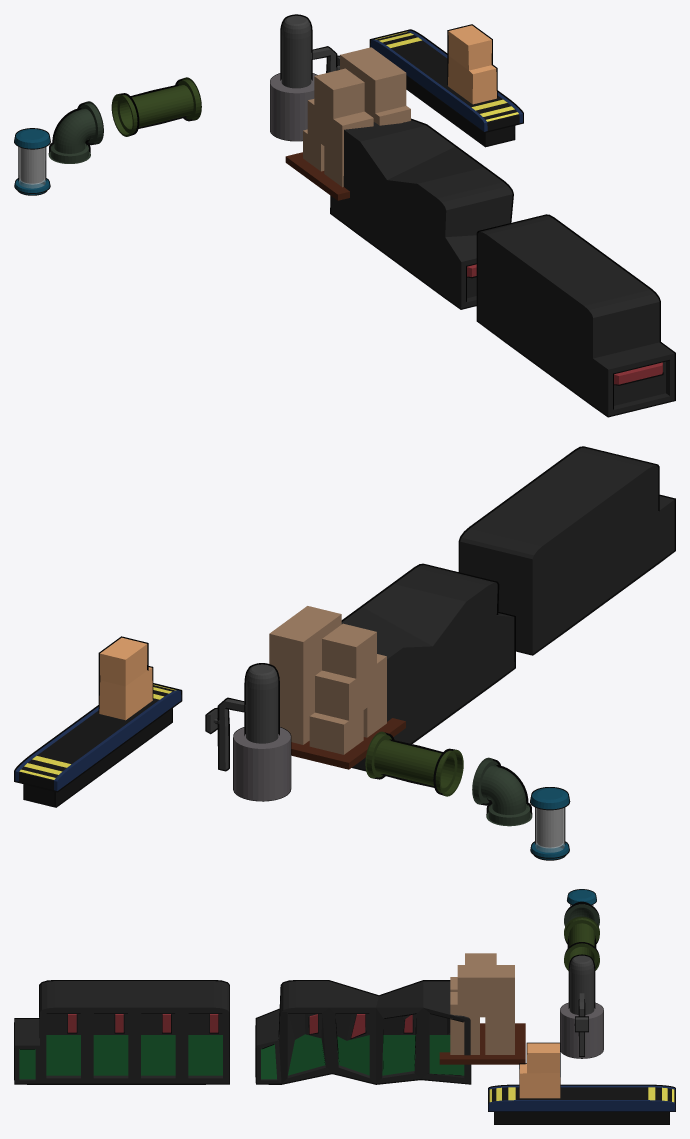
File: toplu.fbx
3 renders of one model, top to bottom at view 1: azimuth 30°, elevation 25°; view 2: azimuth 150°, elevation 25°; view 3: azimuth 270°, elevation 25°, orthographic. The views are drawn at different scales.
Parts seen in each view (by area): view 1: pc normal, kırık pc, bant, kutular, Boru, Tank, Dirsek, metalrulo, kampsül; view 2: pc normal, kırık pc, kutular, bant, Tank, Boru, metalrulo, Dirsek, kampsül; view 3: pc normal, kırık pc, bant, kutular, Tank, metalrulo, Boru, Dirsek, kampsül.
Boxes of the visible parts, box(x1,y1,x2,y2) form: pc normal: box(476, 214, 675, 417); kırık pc: box(330, 118, 513, 309); bant: box(369, 24, 523, 147); kutular: box(285, 47, 410, 200); Boru: box(111, 77, 201, 136); Tank: box(280, 14, 339, 88); Dirsek: box(48, 101, 103, 163); metalrulo: box(270, 73, 317, 141); kampsül: box(14, 128, 50, 195); pc normal: box(458, 446, 675, 655); kırık pc: box(341, 563, 515, 771); kutular: box(269, 606, 405, 769); bant: box(14, 636, 182, 807); Tank: box(205, 663, 279, 771); Boru: box(365, 731, 463, 796); metalrulo: box(233, 727, 291, 801); Dirsek: box(472, 757, 532, 826); kampsül: box(530, 787, 570, 860); pc normal: box(14, 980, 229, 1084); kırık pc: box(255, 980, 471, 1084); bant: box(488, 1042, 675, 1124); kutular: box(439, 953, 525, 1064); Tank: box(568, 954, 595, 1056); metalrulo: box(560, 1002, 603, 1058); Boru: box(564, 916, 599, 970); Dirsek: box(564, 901, 599, 926); kampsül: box(567, 889, 596, 906).
Bounding box in the file's own units: 3354 × 981 × 5197.
